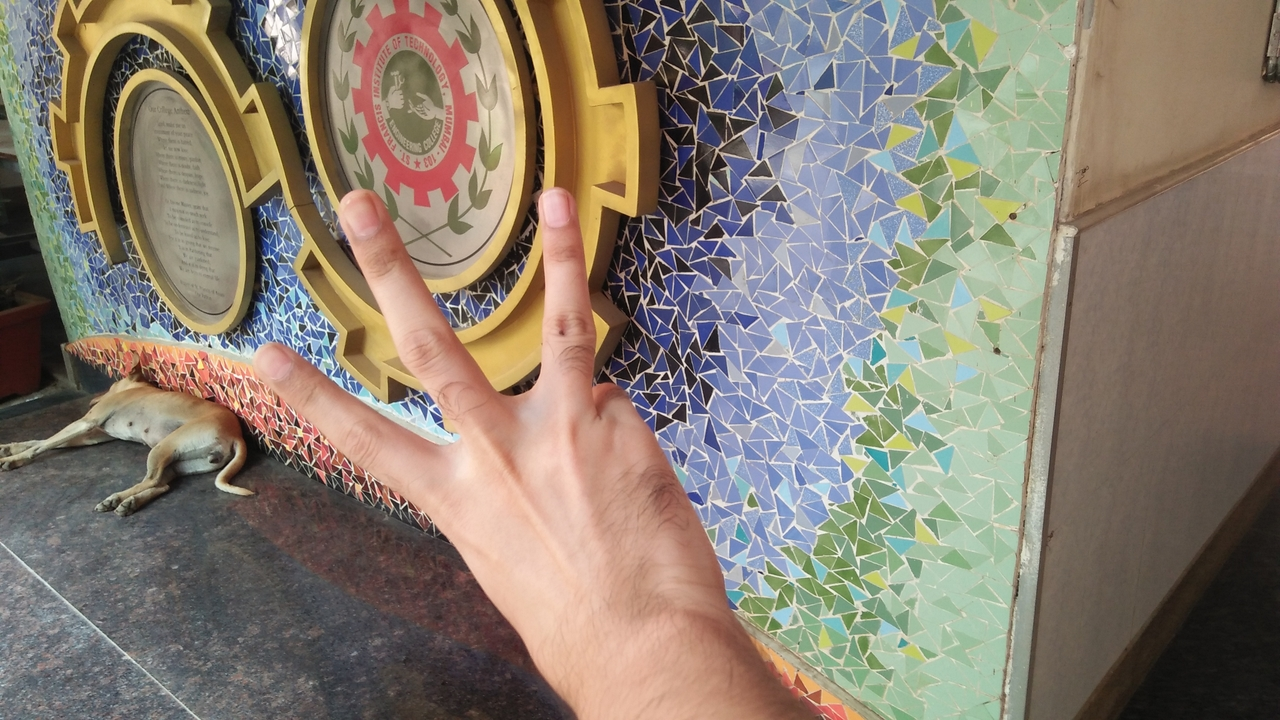fingertip: (320, 180, 386, 246), (234, 336, 308, 386), (530, 178, 582, 236)
